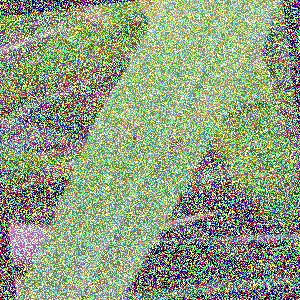Bacterial_Leaf_Blight: (160, 132, 191, 156), (125, 130, 145, 144), (121, 121, 133, 131)
